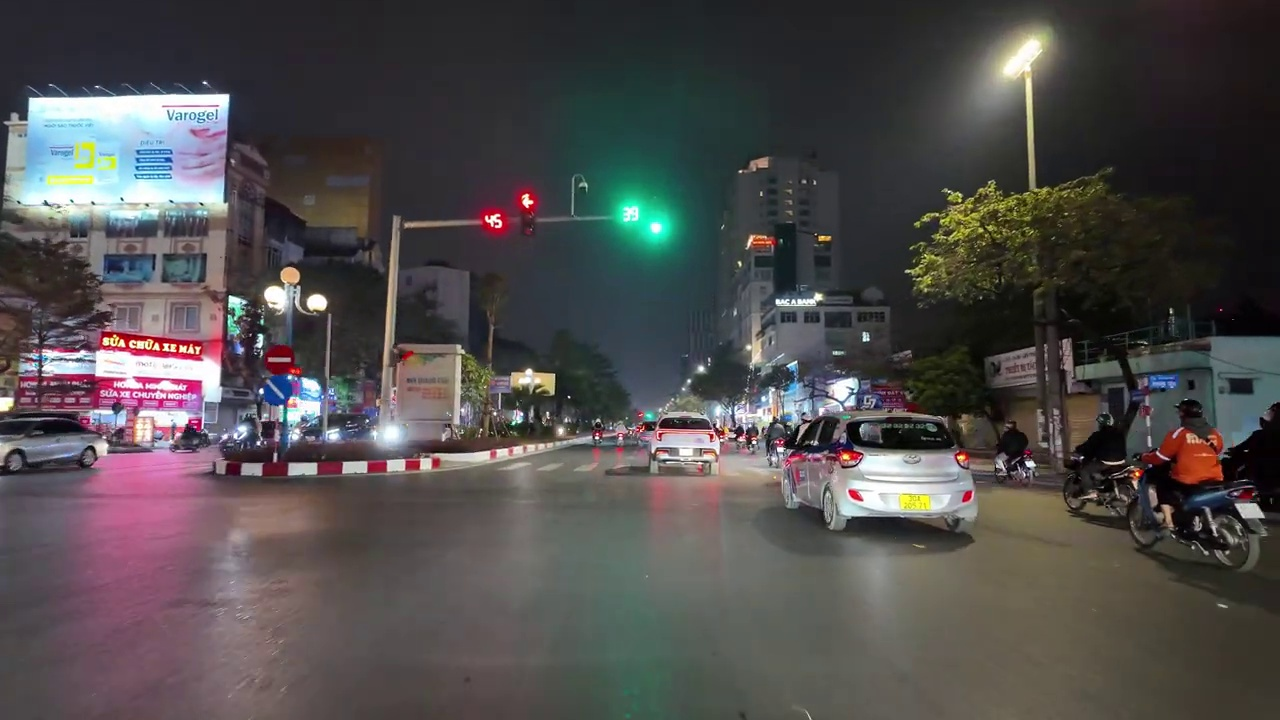acesa: (994, 34, 1045, 83), (266, 279, 319, 318)
